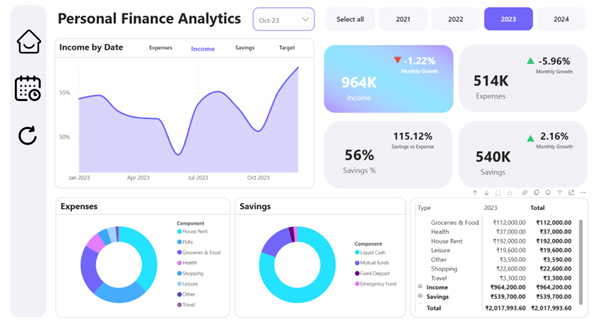

The dashboard page shown, as its layout file describes it:
{"tool":"powerbi","page":{"name":"Personal Finance","canvas":[1280,720],"ordinal":0},"visuals":[{"type":"shape","box":[11.4,25.7,78.6,674.3],"z":0},{"type":"image","box":[690,0,280,368.6],"z":1000},{"type":"shape","box":[981.7,110,278.3,146.7],"z":2000},{"type":"shape","box":[690,275,278.3,146.7],"z":3000},{"type":"shape","box":[981.7,275,278.3,146.7],"z":4000},{"type":"cardVisual","fields":{"Data":["FinData.Savings"]},"box":[971.4,310,167.1,105.7],"z":5000},{"type":"cardVisual","fields":{"Data":["FinData.Income"]},"box":[690.6,152.1,150.8,99.6],"z":6000},{"type":"cardVisual","fields":{"Data":["FinData.Expense"]},"box":[967.1,145.7,167.1,105.7],"z":7000},{"type":"cardVisual","fields":{"Data":["FinData.Savings %"]},"box":[682.5,305.6,168.3,106.4],"z":8000},{"type":"advancedSlicerVisual","fields":{"Values":["Date_Dim.Year"]},"box":[689.3,24.7,574.2,60.3],"z":9000},{"type":"donutChart","title":"Savings ","fields":{"Y":["FinData.Savings"],"Category":["FinData.Component"]},"box":[497.2,440.8,370.4,259.2],"z":10000},{"type":"donutChart","title":"Expenses","fields":{"Category":["FinData.Component"],"Y":["FinData.Expense"]},"box":[109.9,440.8,377.5,259.2],"z":11000},{"type":"pivotTable","fields":{"Values":["FinData.Total_Value"],"Rows":["FinData.Type","FinData.Component"],"Columns":["FinData.Year"]},"box":[876.1,440.8,384.5,259.2],"z":12000},{"type":"areaChart","fields":{"Category":["FinData.Date"],"Y":["FinData.LineChart_Value","FinData.LineChart_Value_NoMMMYY"]},"box":[109,111,560,310],"z":13000},{"type":"advancedSlicerVisual","fields":{"Values":["Line_Selection_Table.type"]},"box":[287.1,111.4,378.6,37.1],"z":14000},{"type":"textbox","box":[109.5,25.7,414.9,59.5],"z":15000},{"type":"slicer","fields":{"Values":["DropDown_Cal.MMM-YY"]},"box":[536.2,30,133.8,50],"z":16000},{"type":"cardVisual","fields":{"Data":["_Measure.Monthly_Income_Growth %"]},"box":[813.1,104.5,168.2,94.7],"z":17000},{"type":"cardVisual","fields":{"Data":["_Measure.Monthly_Expense_Growth %"]},"box":[1116.7,109.4,143.7,86.5],"z":18000},{"type":"cardVisual","fields":{"Data":["_Measure.Monthly_Savings_Growth %"]},"box":[1105.3,269.4,166.5,91.4],"z":19000},{"type":"cardVisual","fields":{"Data":["_Measure.Savings_vs_Expense %"]},"box":[798.4,269.4,168.2,91.4],"z":20000},{"type":"image","box":[24.3,67.1,55.7,72.9],"z":21000},{"type":"cardVisual","fields":{"Data":["_Measure.Expense_Growth_Arrow"]},"box":[1093.9,106.1,86.5,71.8],"z":22000},{"type":"cardVisual","fields":{"Data":["_Measure.Income_Growth_Arrow"]},"box":[806.5,104.5,86.5,73.5],"z":23000},{"type":"image","box":[22.1,167.9,55.7,72.9],"z":24000},{"type":"cardVisual","fields":{"Data":["_Measure.Savings_Growth_Arrow"]},"box":[1093.9,274.3,86.5,71.8],"z":25000},{"type":"actionButton","box":[11.7,183.3,78.3,40],"z":26000},{"type":"image","box":[21.7,270,55,73.3],"z":28000},{"type":"actionButton","box":[11.7,286.7,78.3,40],"z":29000}]}

Visuals, with their boxes on the page's 1280x720 design canvas (x1, y1, x2, y2). These are canvas units, not pixel positions in the 602x325 screenshot, which may show the page scaled, cropped or inside an application window:
shape: Rect(11, 26, 90, 700)
image: Rect(690, 0, 970, 369)
shape: Rect(982, 110, 1260, 257)
shape: Rect(690, 275, 968, 422)
shape: Rect(982, 275, 1260, 422)
cardVisual - FinData.Savings: Rect(971, 310, 1138, 416)
cardVisual - FinData.Income: Rect(691, 152, 841, 252)
cardVisual - FinData.Expense: Rect(967, 146, 1134, 251)
cardVisual - FinData.Savings %: Rect(682, 306, 851, 412)
advancedSlicerVisual - Date_Dim.Year: Rect(689, 25, 1264, 85)
"Savings " donutChart: Rect(497, 441, 868, 700)
"Expenses" donutChart: Rect(110, 441, 487, 700)
pivotTable - FinData.Total_Value x FinData.Type: Rect(876, 441, 1261, 700)
areaChart - FinData.Date x FinData.LineChart_Value: Rect(109, 111, 669, 421)
advancedSlicerVisual - Line_Selection_Table.type: Rect(287, 111, 666, 148)
textbox: Rect(110, 26, 524, 85)
slicer - DropDown_Cal.MMM-YY: Rect(536, 30, 670, 80)
cardVisual - _Measure.Monthly_Income_Growth %: Rect(813, 104, 981, 199)
cardVisual - _Measure.Monthly_Expense_Growth %: Rect(1117, 109, 1260, 196)
cardVisual - _Measure.Monthly_Savings_Growth %: Rect(1105, 269, 1272, 361)
cardVisual - _Measure.Savings_vs_Expense %: Rect(798, 269, 967, 361)
image: Rect(24, 67, 80, 140)
cardVisual - _Measure.Expense_Growth_Arrow: Rect(1094, 106, 1180, 178)
cardVisual - _Measure.Income_Growth_Arrow: Rect(806, 104, 893, 178)
image: Rect(22, 168, 78, 241)
cardVisual - _Measure.Savings_Growth_Arrow: Rect(1094, 274, 1180, 346)
actionButton: Rect(12, 183, 90, 223)
image: Rect(22, 270, 77, 343)
actionButton: Rect(12, 287, 90, 327)
